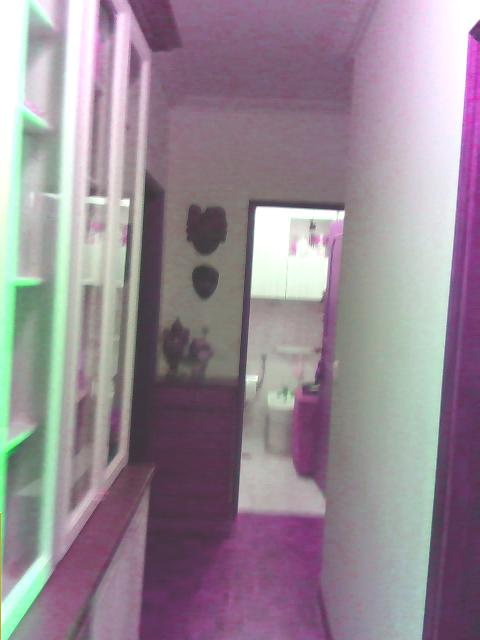open_door: (233, 196, 348, 516)
